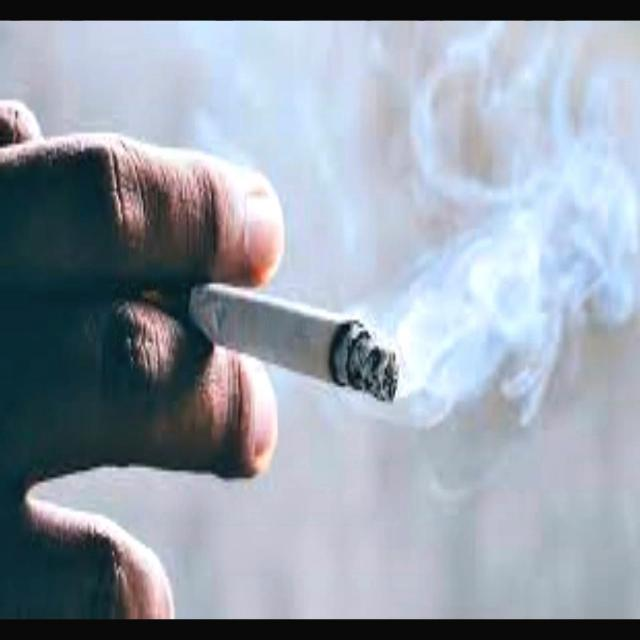cigarette: (98, 124, 468, 515)
